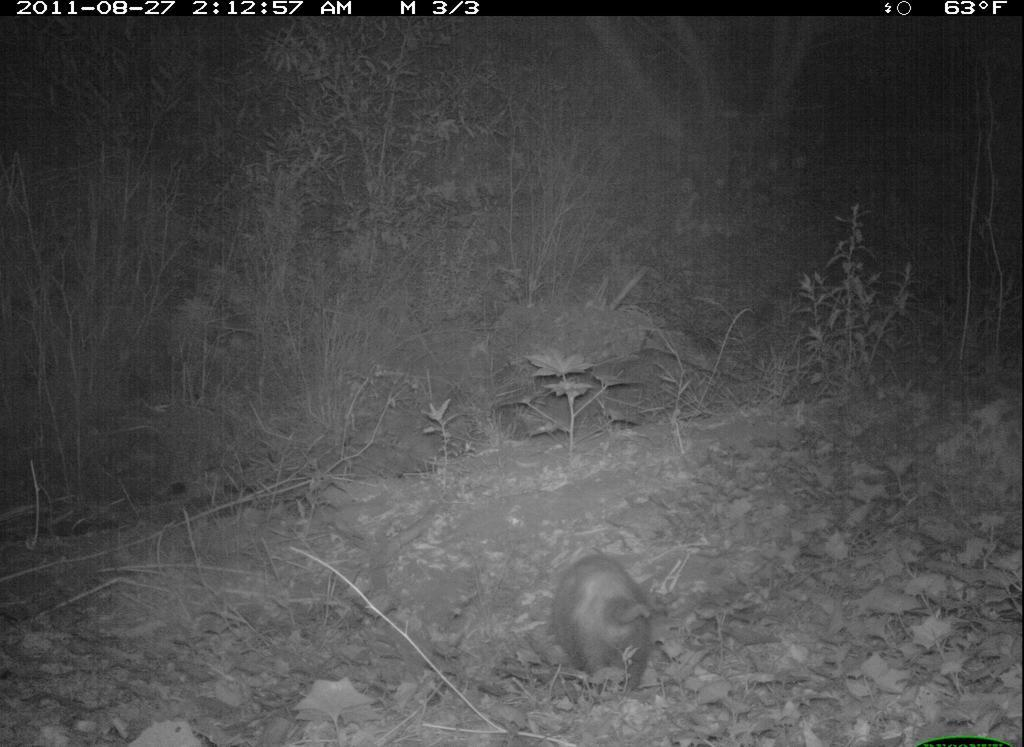opossum: (543, 527, 676, 708)
